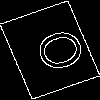O: (25, 25, 88, 79)
